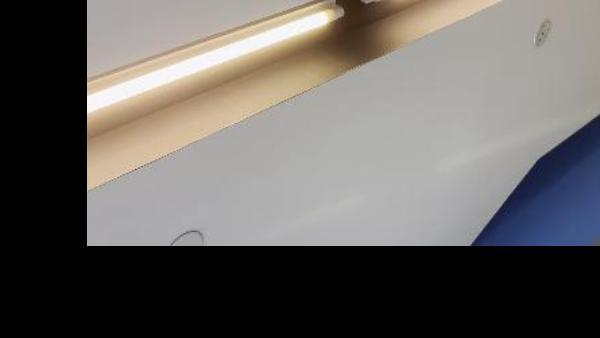light_on: (0, 0, 352, 179)
